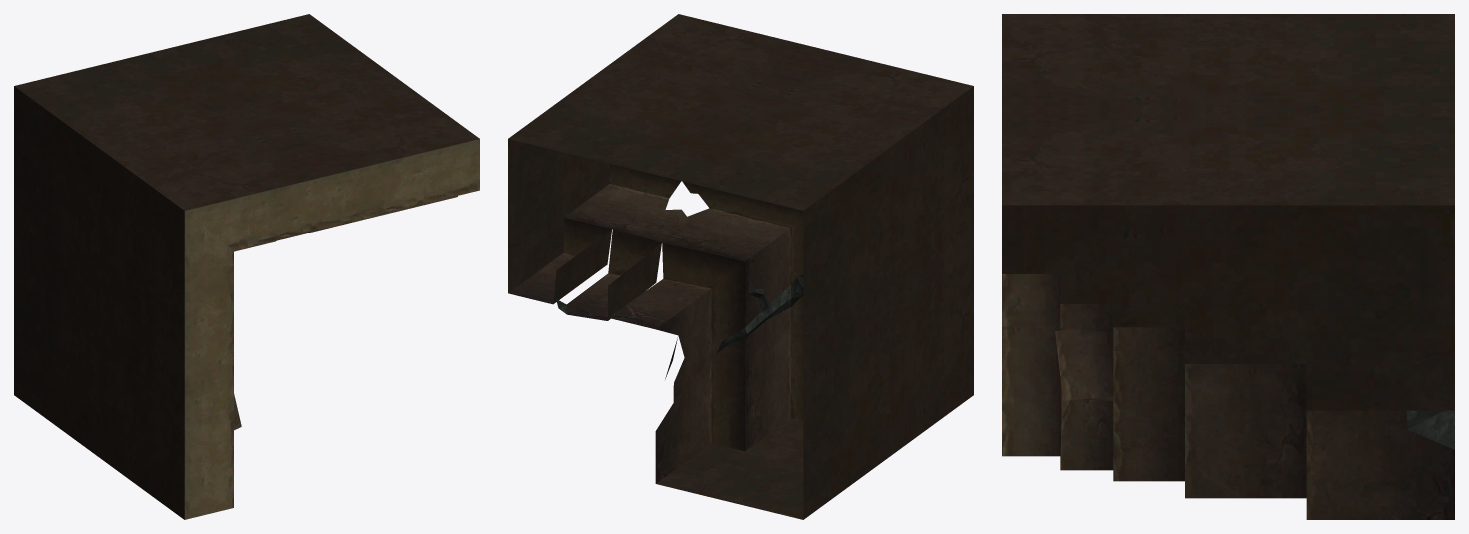
The model's file is qinhuangling_fuben_227_weiqiang01.obj.
3 views of the same model, side by side, from view 1: azimuth 30°, elevation 25°; view 2: azimuth 150°, elevation 25°; view 3: azimuth 270°, elevation 25° (orthographic). The views are drawn at different scales.
Visible parts, largest first — view 1: qinhuangling_fuben_227_weiqiang01; view 2: qinhuangling_fuben_227_weiqiang01; view 3: qinhuangling_fuben_227_weiqiang01.
Boxes of the visible parts, left/top/right/bottom form: qinhuangling_fuben_227_weiqiang01: left=14, top=14, right=479, bottom=519; qinhuangling_fuben_227_weiqiang01: left=508, top=14, right=973, bottom=519; qinhuangling_fuben_227_weiqiang01: left=1002, top=14, right=1454, bottom=519.
Bounding box in the file's own units: 256 × 256 × 256.
3 materials, 3 textured.
